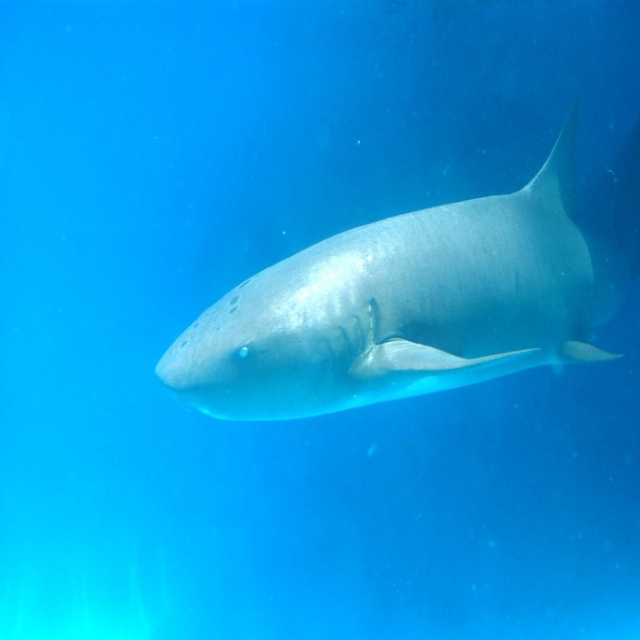Shark: (154, 95, 640, 421)
